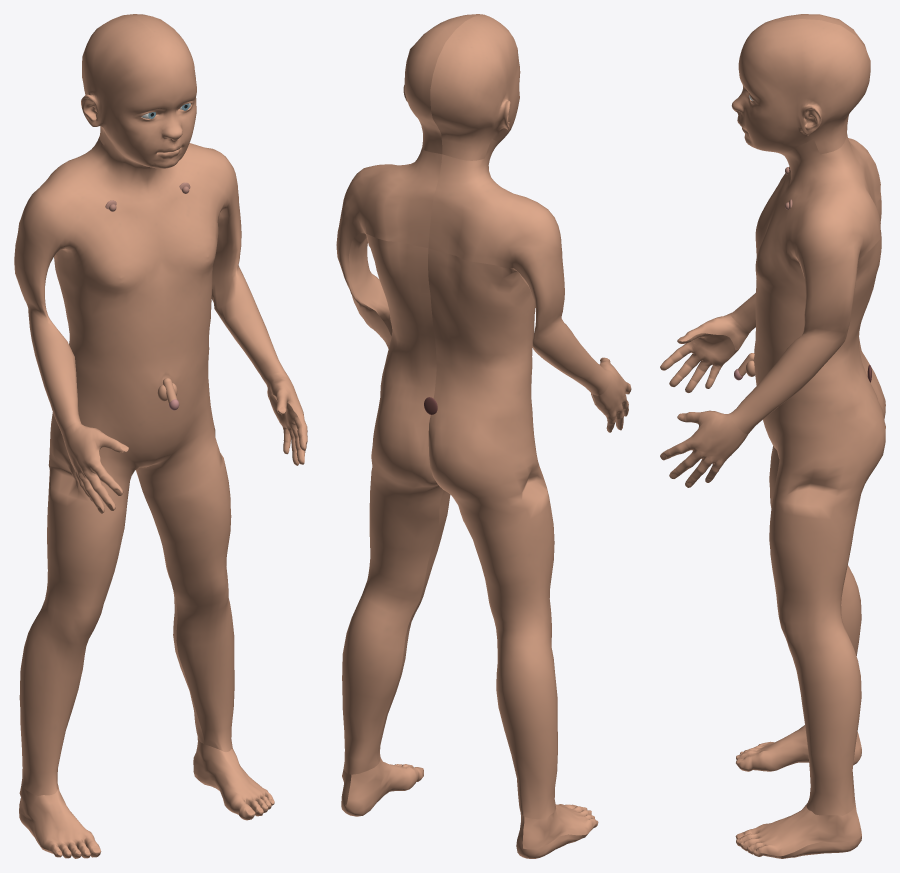
File: body-kleinkind-maennlich-real-v3.glb
3 views of the same model, side by side, from view 1: azimuth 30°, elevation 25°; view 2: azimuth 150°, elevation 25°; view 3: azimuth 270°, elevation 25° (orthographic).
Parts seen in each view (by area): view 1: real-human-body; view 2: real-human-body; view 3: real-human-body.
Part boxes in pixels (x1=…): real-human-body: x1=14, y1=14, x2=307, y2=858; real-human-body: x1=336, y1=14, x2=631, y2=858; real-human-body: x1=660, y1=14, x2=885, y2=858.
Bounding box in the file's own units: 0.2947 × 1 × 0.2593.
Materials: 8 (1 with a texture image).
